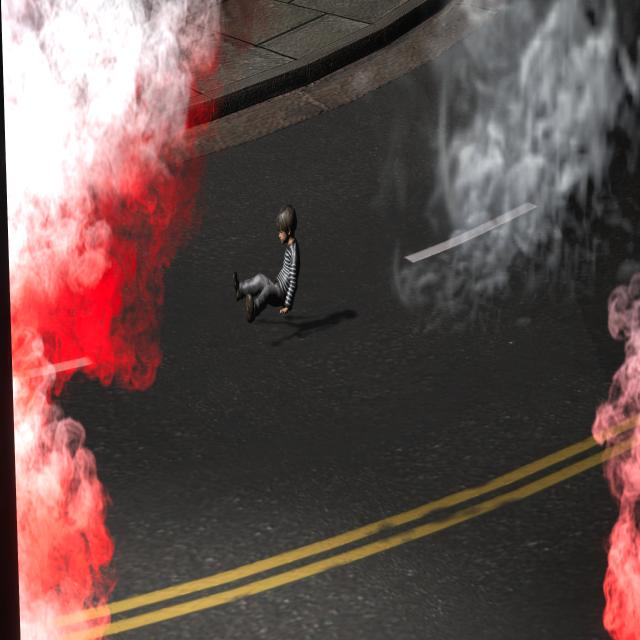Human: (223, 198, 302, 322)
